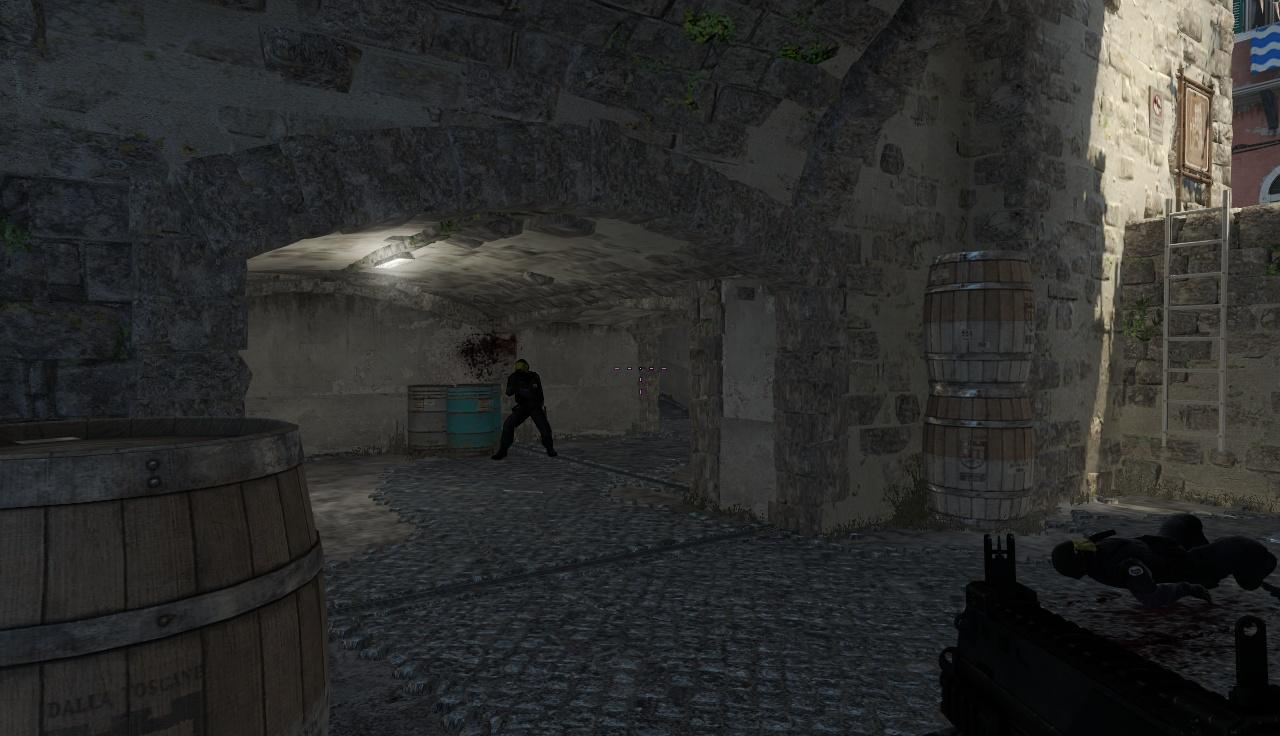ct: (508, 358, 554, 460)
cthead: (514, 359, 529, 376), (514, 360, 529, 376)
rifle: (941, 528, 1280, 736)
